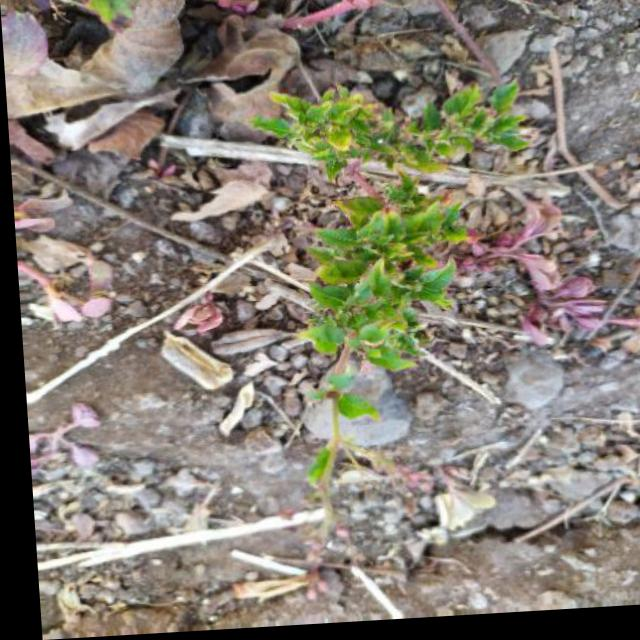weed: (242, 68, 552, 525)
